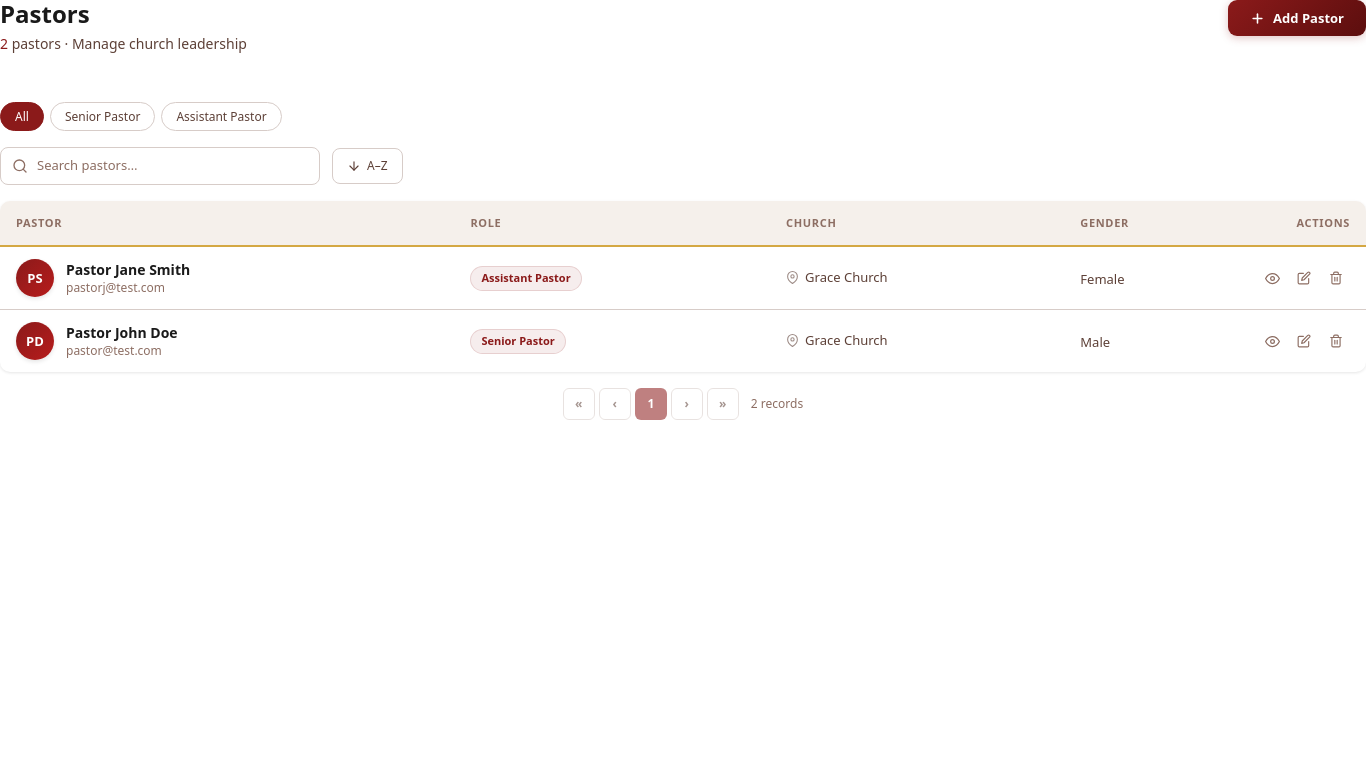
Test case: Pastors › closes create form via overlay click
Click the button "Add Pastor" at (1297, 18), box [1228,0,1365,36]
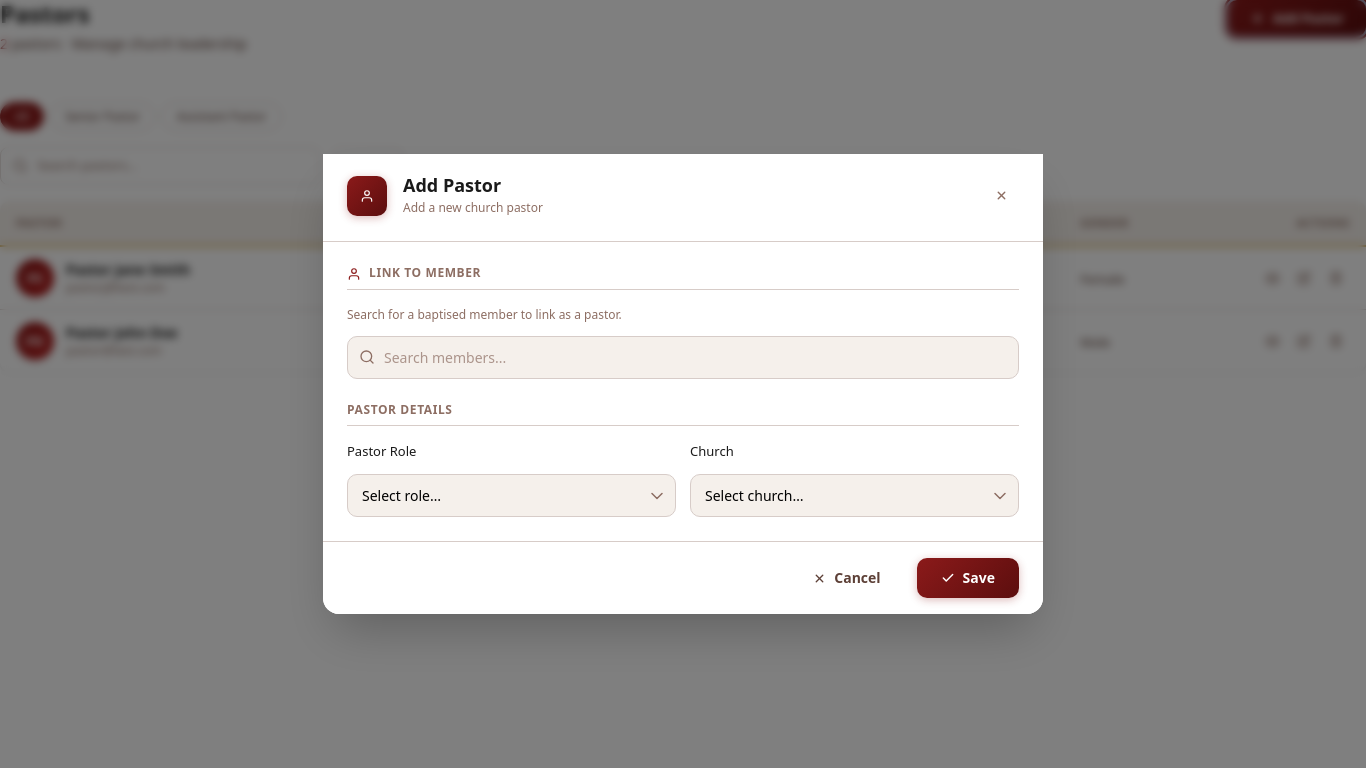
Click the element with class "mf-overlay" at (82, 384), box [0,0,1365,767]
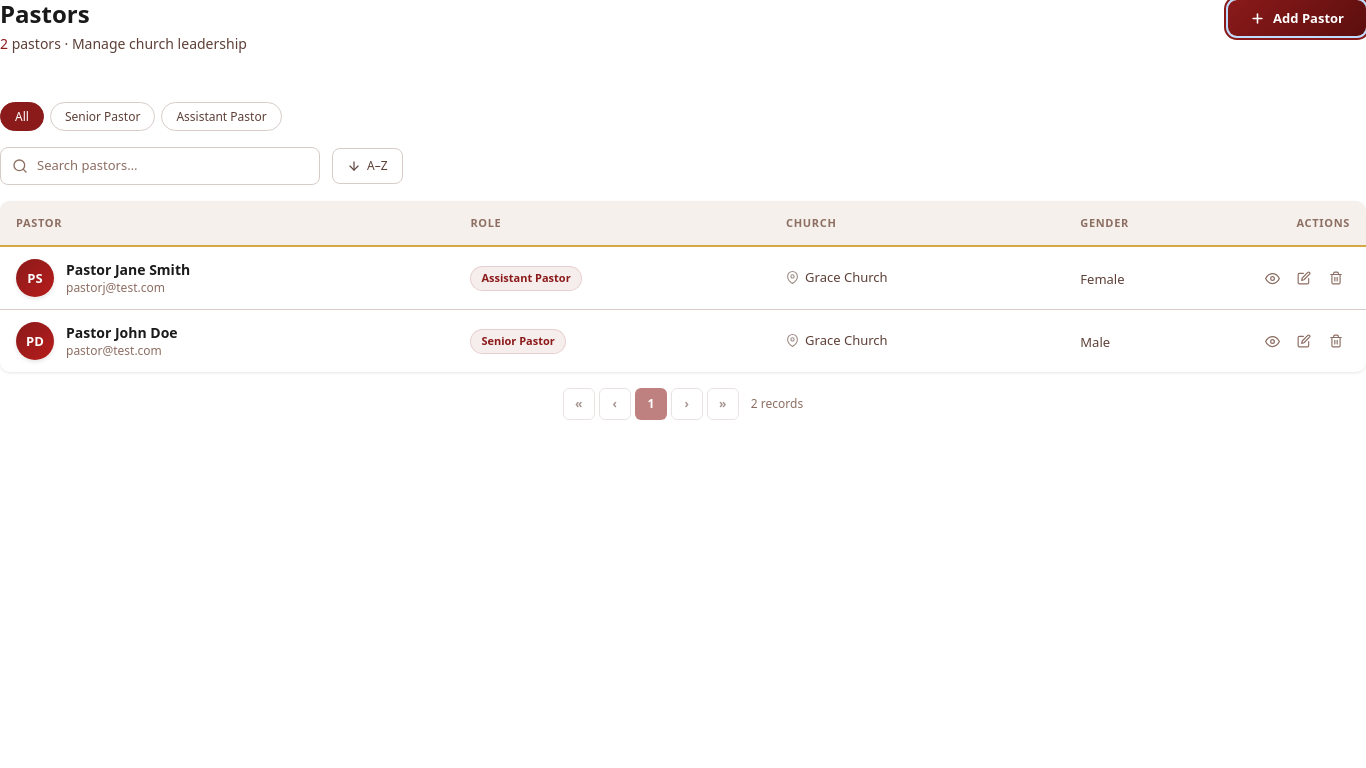
Now the text "Add a new church pastor" is gone
